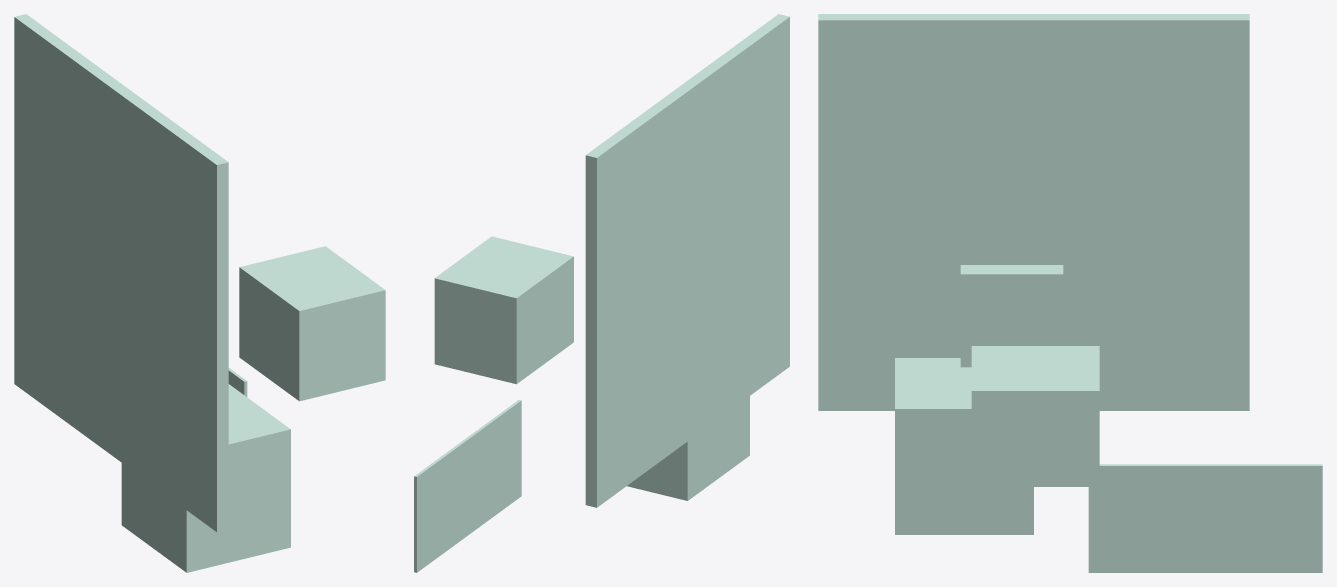
The picture shows the model from 3 angles, left to right: view 1: azimuth 30°, elevation 25°; view 2: azimuth 150°, elevation 25°; view 3: azimuth 270°, elevation 25°; orthographic projection. The views are drawn at different scales.
Parts seen in each view (by area): view 1: Renderer Node; view 2: Renderer Node; view 3: Renderer Node.
Boxes of the visible parts, bbox=[...] form: Renderer Node: bbox=[14, 14, 385, 572]; Renderer Node: bbox=[414, 14, 789, 572]; Renderer Node: bbox=[818, 14, 1322, 572].
Size of the model in its own units: 0.6328 by 1.12 by 1.08.
